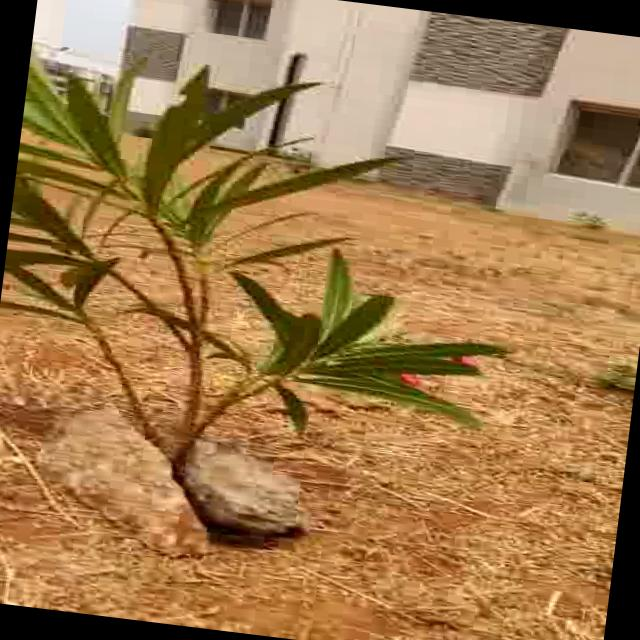OLEANDER: (0, 43, 510, 459)
